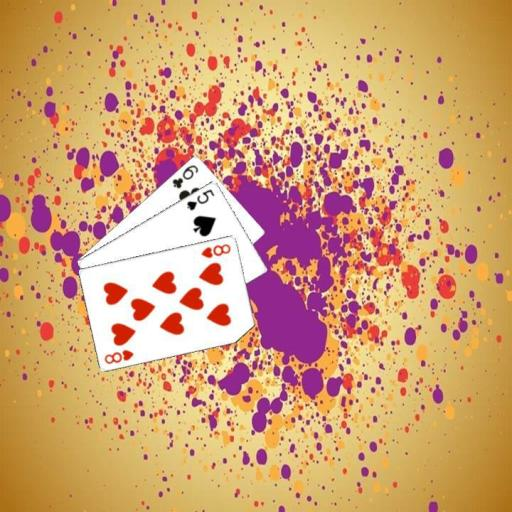5S: (184, 186, 216, 212)
6C: (169, 161, 200, 190)
8H: (198, 241, 233, 260), (102, 346, 135, 365)
